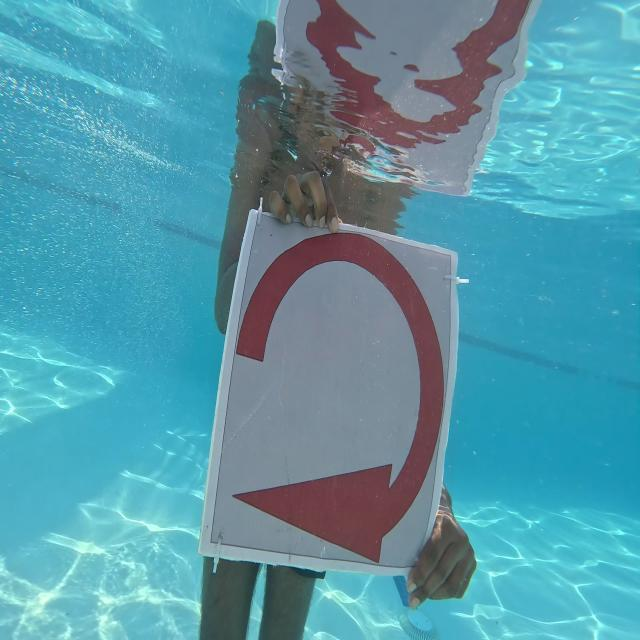red_side: (212, 197, 456, 602)
